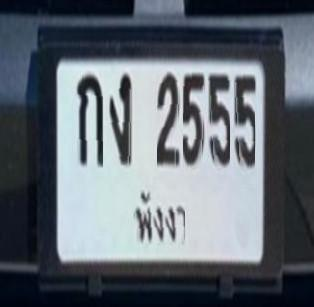2: (151, 72, 179, 166), (235, 69, 256, 172), (209, 70, 231, 167), (182, 73, 204, 168)
A01: (73, 72, 105, 171)
A07: (111, 71, 135, 169)
PNA: (132, 193, 190, 247)
